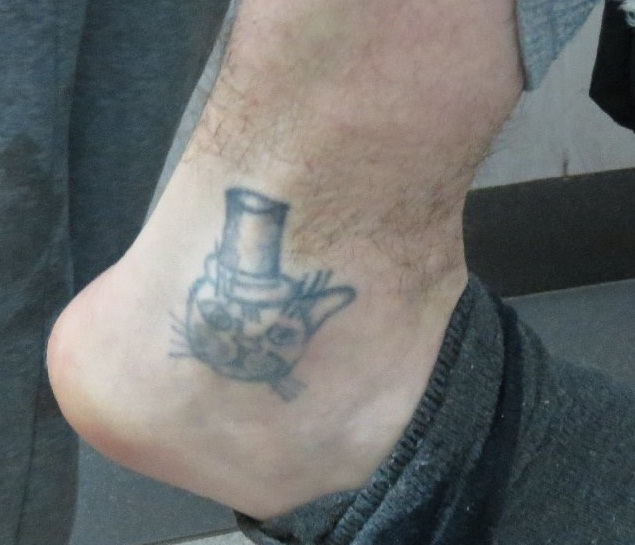tatu8_kot: (170, 184, 358, 407)
